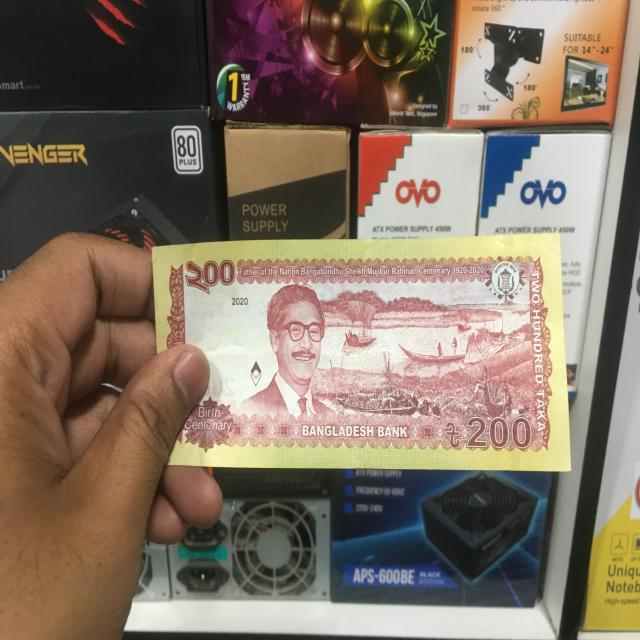Taka: (153, 243, 574, 472)
